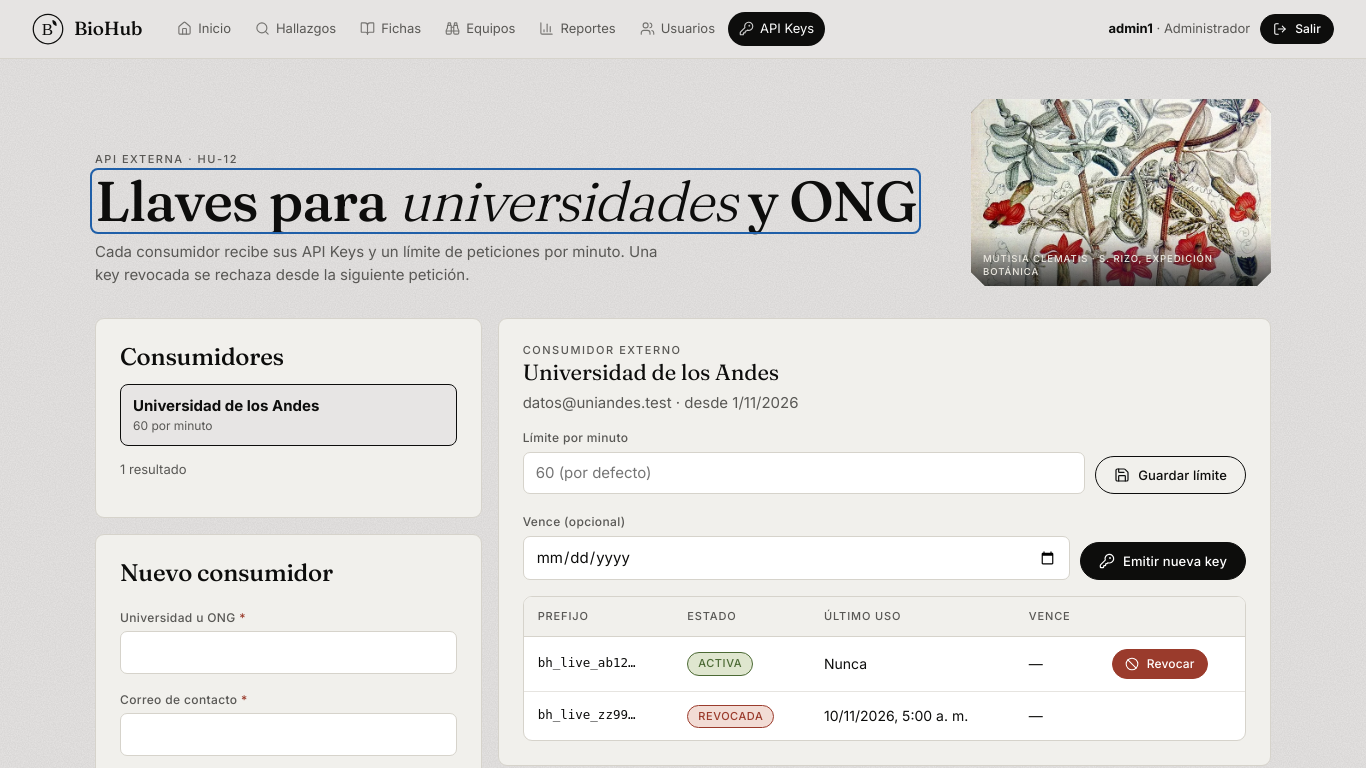
API Keys de consumidores externos (HU-12, RNF11) › revocar pide confirmación y avisa que aplica desde la siguiente petición
Click the button "Revocar" at (1160, 664), box [1112, 649, 1208, 679]
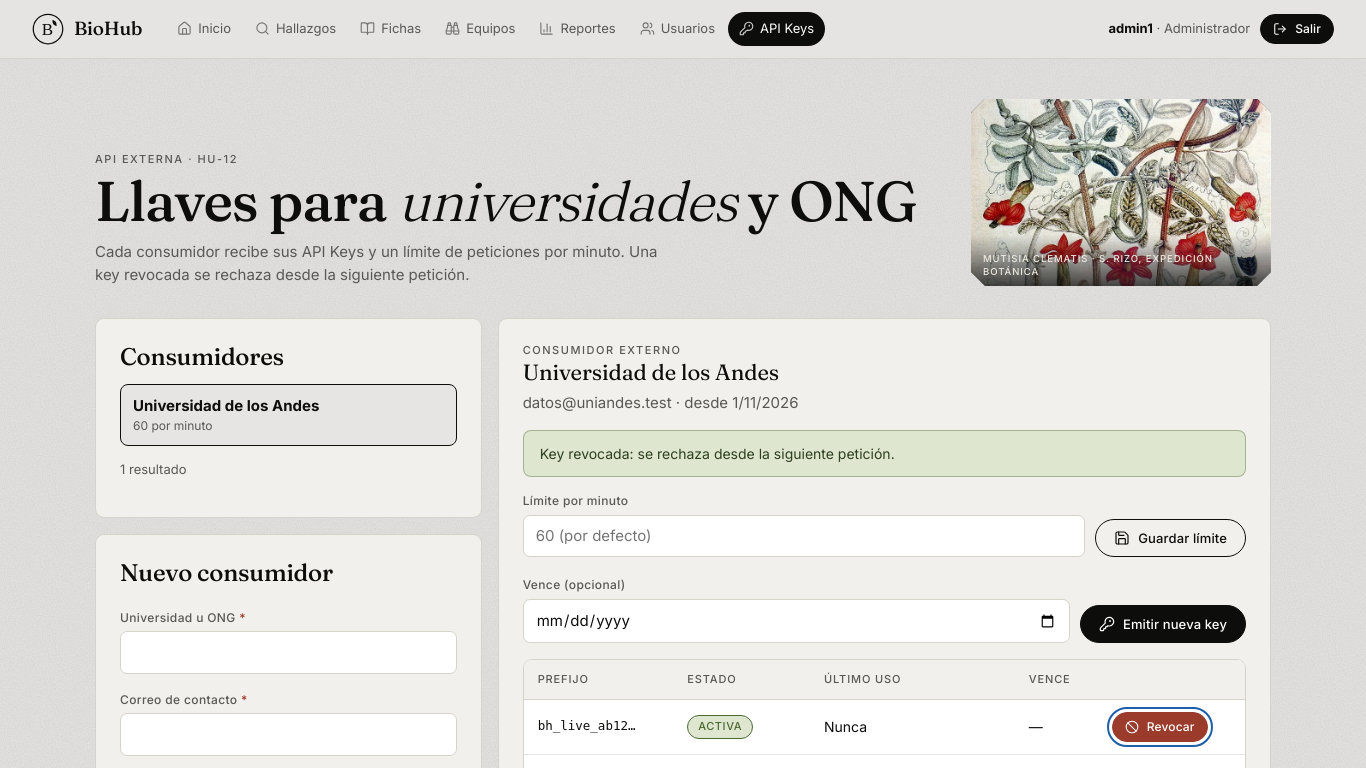
Expected: the text "Key revocada: se rechaza desde la siguiente petición." is shown, [540, 443, 895, 464]
